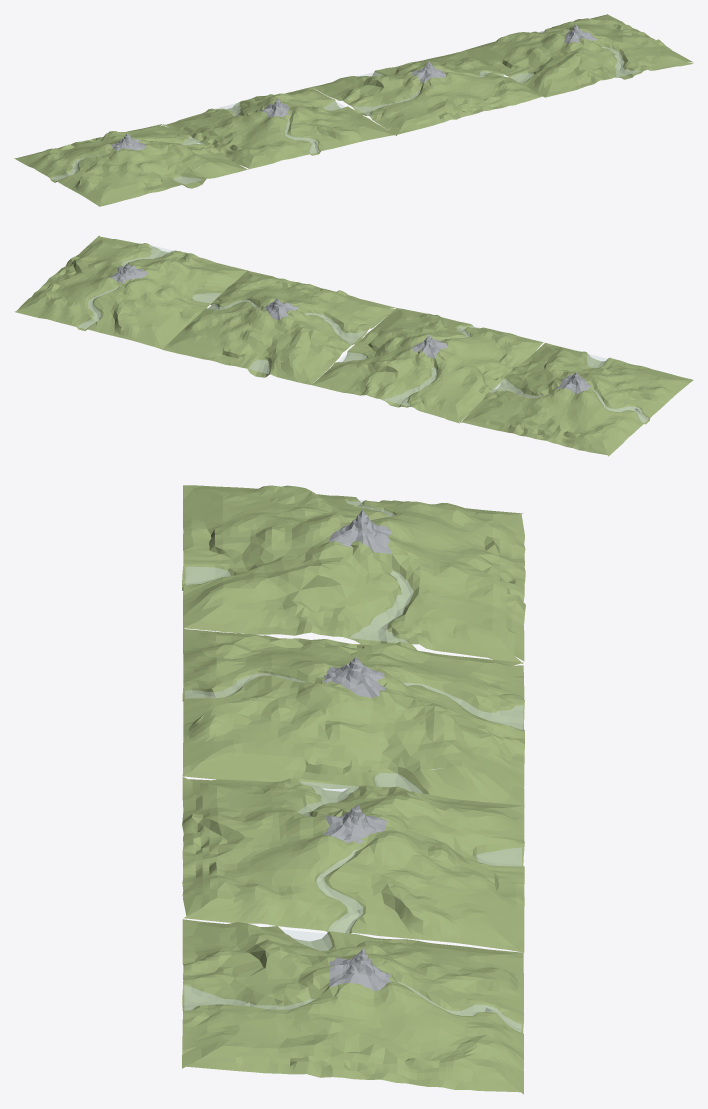
File: Ground_Plane.fbx
3 renders of one model, top to bottom at view 1: azimuth 30°, elevation 25°; view 2: azimuth 150°, elevation 25°; view 3: azimuth 270°, elevation 25°, orthographic. The views are drawn at different scales.
Visible parts, largest first — view 1: polySurface1; view 2: polySurface1; view 3: polySurface1.
Boxes of the visible parts, <box> form: polySurface1: <box>14,14,693,206</box>; polySurface1: <box>14,235,693,456</box>; polySurface1: <box>182,485,525,1094</box>.
Size of the model in its own units: 236 by 16.41 by 59.01.
